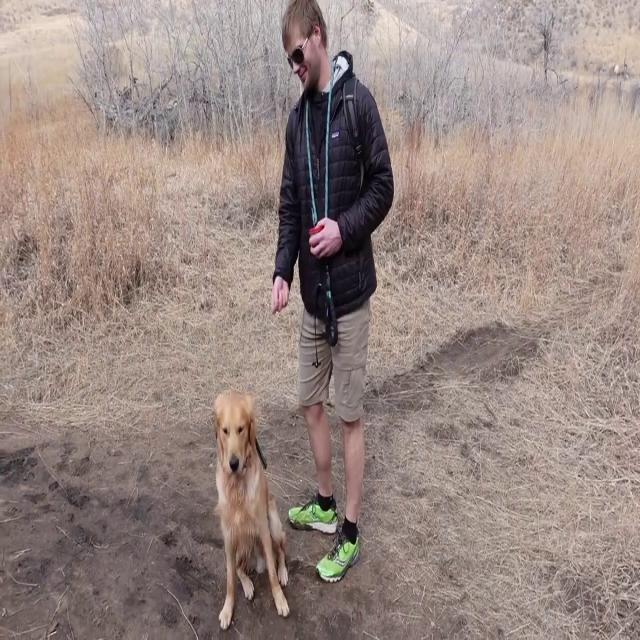Unleashed_Dog: (214, 392, 336, 631)
